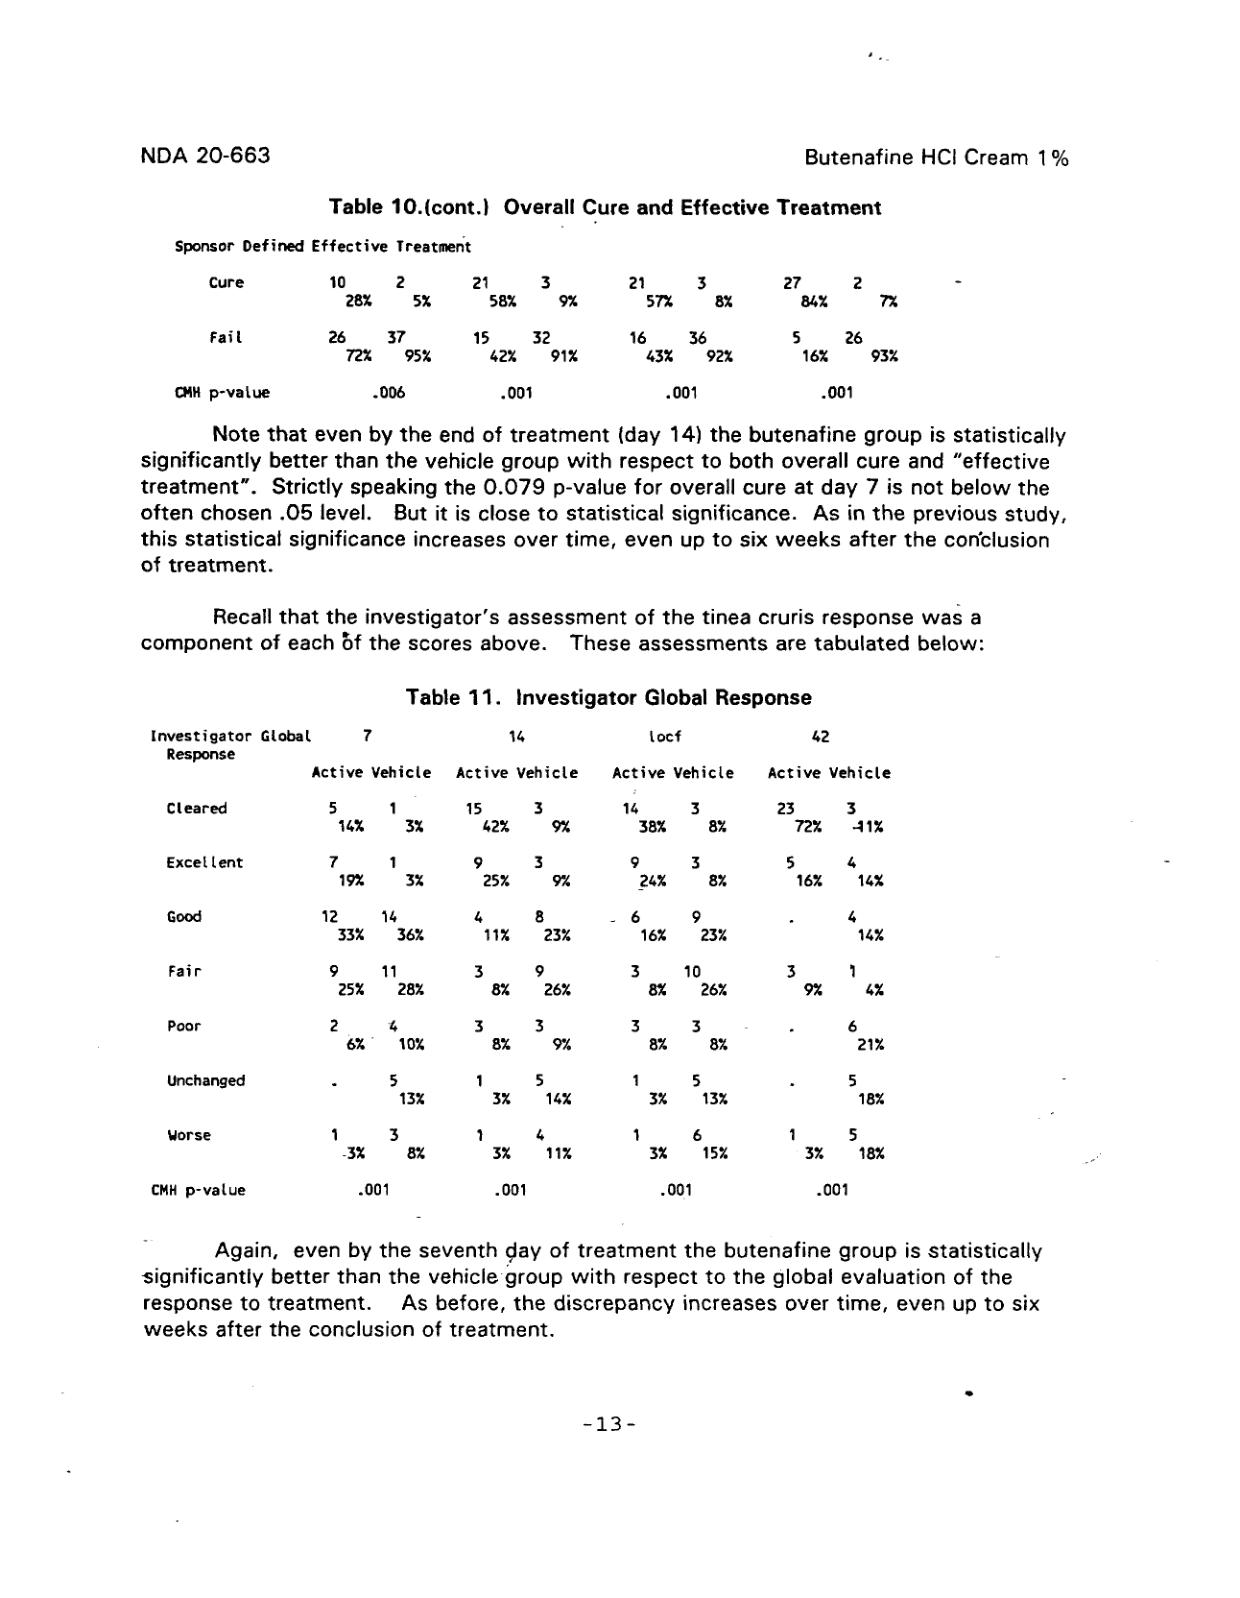nolines: (148, 725, 891, 1202), (171, 235, 901, 399)
